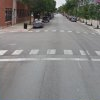crosswalk: (0, 49, 100, 55), (34, 29, 95, 34)
